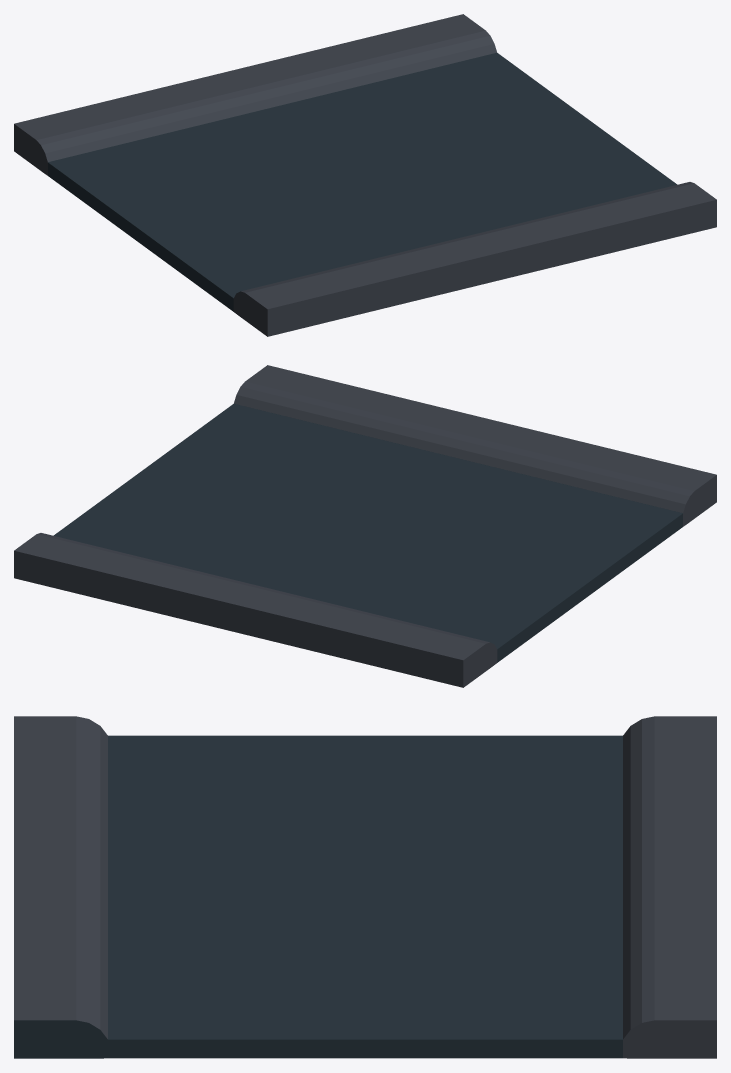
Rendered from StraightRoad.fbx.
The picture shows the model from 3 angles, top to bottom: view 1: azimuth 30°, elevation 25°; view 2: azimuth 150°, elevation 25°; view 3: azimuth 270°, elevation 25°; orthographic projection. The views are drawn at different scales.
Parts seen in each view (by area): view 1: FlatRoad_Skinny; view 2: FlatRoad_Skinny; view 3: FlatRoad_Skinny.
Part boxes in pixels (x1,y1,x2,y2): FlatRoad_Skinny: [14, 14, 716, 336]; FlatRoad_Skinny: [14, 365, 716, 687]; FlatRoad_Skinny: [14, 716, 716, 1058].
Size of the model in its own units: 205 by 12 by 200.
